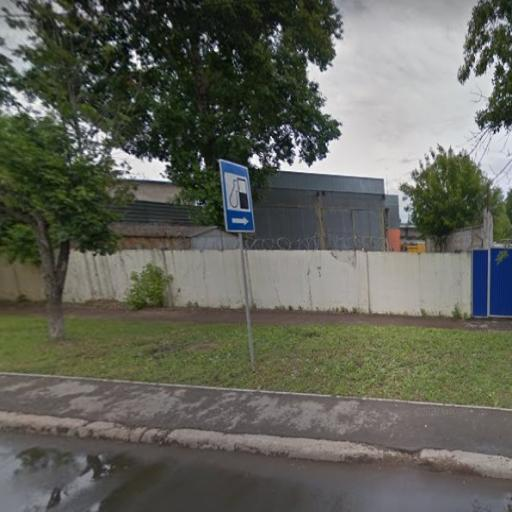traffic_sign: (217, 154, 260, 238)
